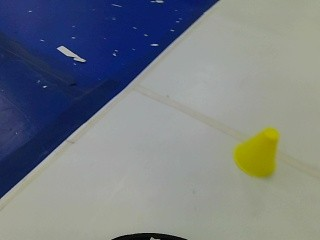cone: (232, 122, 278, 179)
